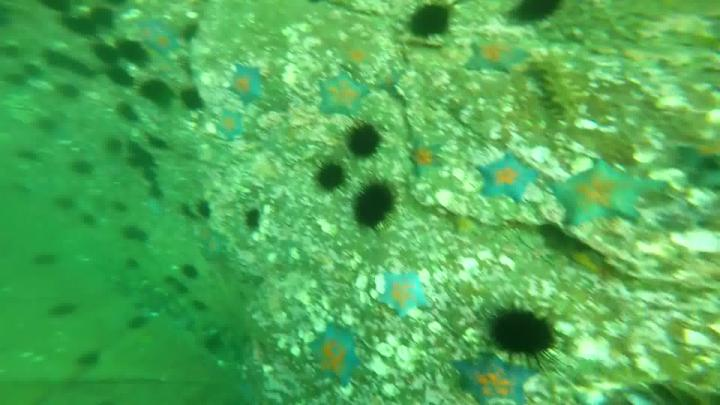echinus: (483, 306, 554, 365), (352, 183, 399, 232), (504, 1, 566, 28), (407, 4, 452, 38), (46, 54, 96, 80), (348, 123, 381, 157), (314, 157, 347, 191), (129, 141, 155, 179), (117, 41, 152, 68), (142, 78, 173, 107), (61, 14, 96, 38), (41, 1, 72, 19), (182, 89, 205, 113), (120, 227, 150, 245), (93, 45, 119, 64), (106, 68, 133, 86), (118, 103, 140, 122), (95, 9, 117, 25), (196, 203, 214, 220), (248, 207, 260, 232), (74, 163, 94, 176), (10, 73, 28, 87), (62, 88, 82, 100), (23, 66, 44, 77), (6, 44, 22, 56), (110, 139, 119, 151)
holothurian: (532, 54, 576, 116)
scallop: (572, 331, 628, 367), (668, 227, 720, 252), (653, 165, 688, 183), (529, 144, 557, 161), (633, 149, 659, 166), (437, 189, 457, 204), (375, 345, 397, 358), (400, 347, 420, 360), (462, 258, 479, 270)
starfish: (559, 158, 656, 231), (451, 349, 540, 405), (309, 326, 366, 386), (481, 155, 544, 202), (468, 33, 532, 76), (377, 270, 432, 318), (319, 73, 367, 118), (229, 64, 270, 105), (411, 143, 447, 180), (141, 23, 178, 53), (216, 112, 248, 136), (348, 43, 379, 65), (205, 237, 228, 259), (148, 201, 166, 218)
